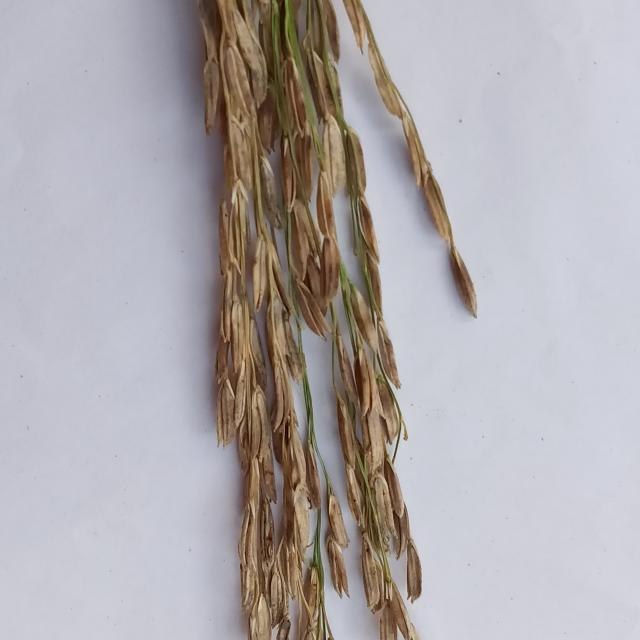Neck_Blast: (194, 4, 349, 639), (268, 50, 421, 639), (357, 6, 488, 317)
